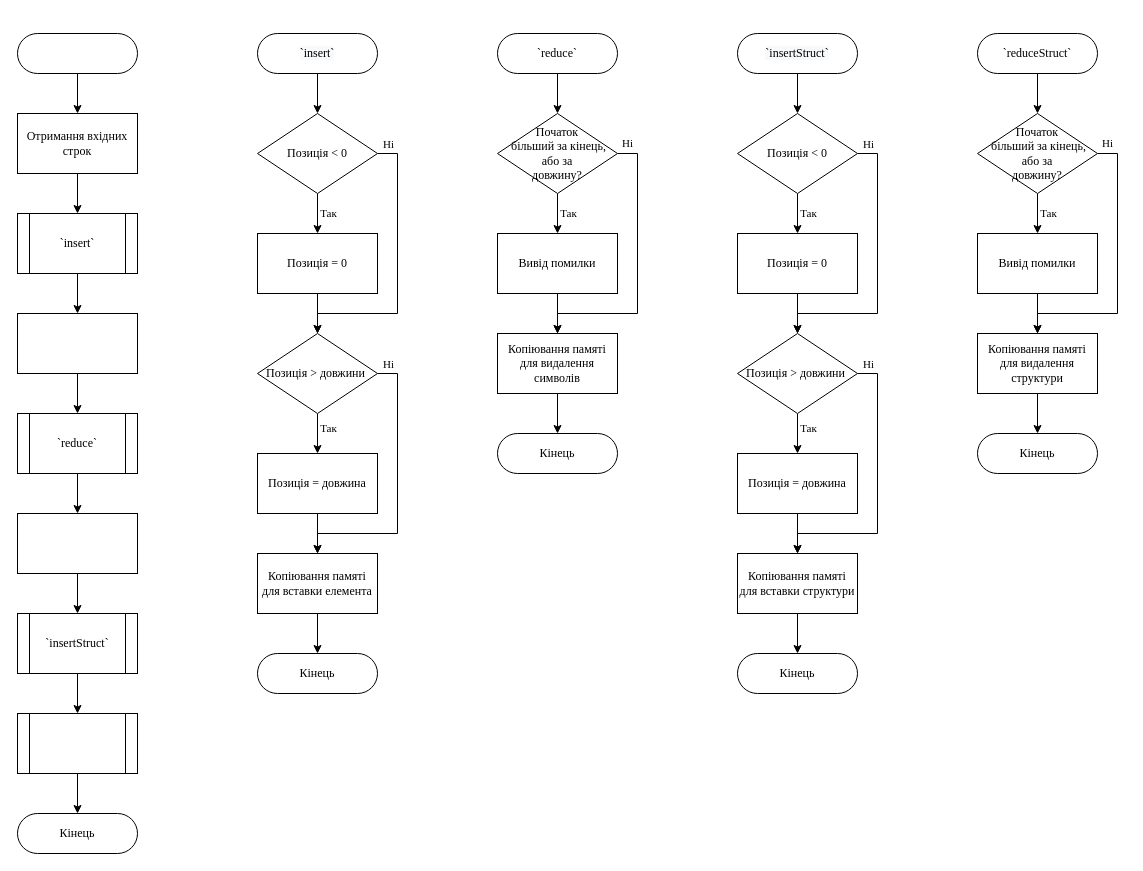
Image size: 1143x871. Some labels were removed from this diagram. Here are the shapes that lost their labels. From the top down, the centre of each, then its label:
[77,53]: Початок
[77,343]: Отримання вхідної строки
[77,543]: Отримання структури для вставки
[77,743]: ` reduceStruct `
